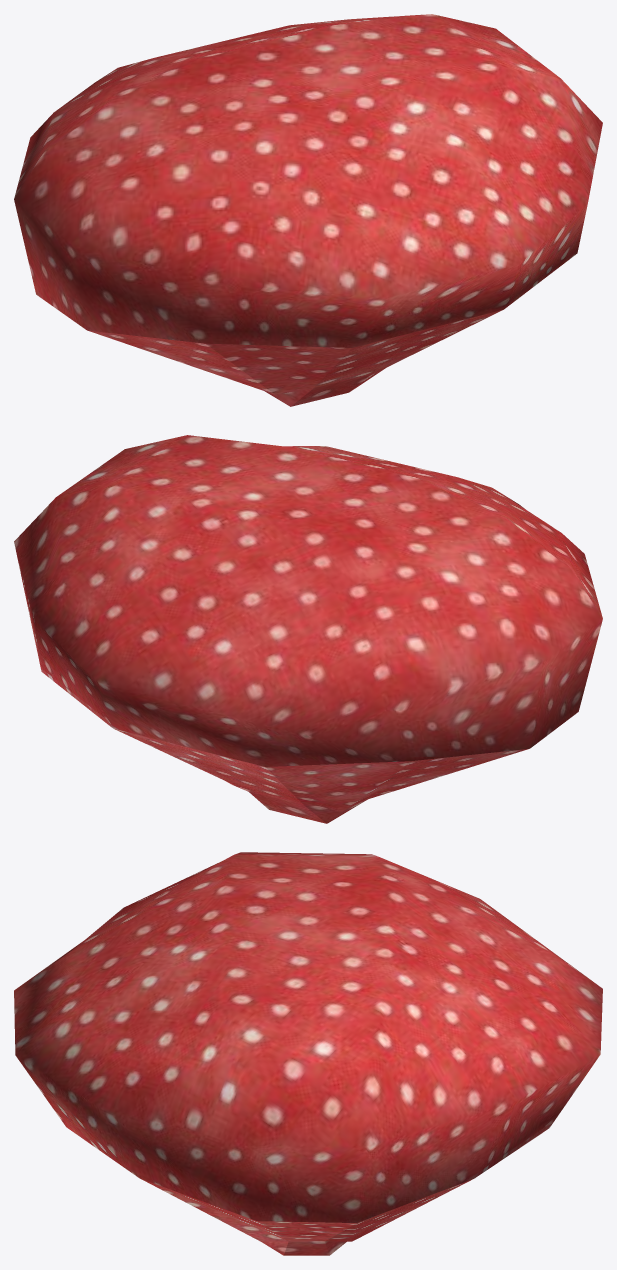
The model's file is Coral05.fbx.
3 renders of one model, top to bottom at view 1: azimuth 30°, elevation 25°; view 2: azimuth 150°, elevation 25°; view 3: azimuth 270°, elevation 25°, orthographic.
Visible parts, largest first — view 1: Sponge; view 2: Sponge; view 3: Sponge.
Boxes of the visible parts, x1=… form: Sponge: x1=14, y1=14, x2=602, y2=406; Sponge: x1=14, y1=435, x2=602, y2=823; Sponge: x1=14, y1=852, x2=602, y2=1255.
Bounding box in the file's own units: 355 × 203 × 336.
